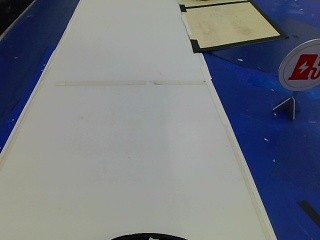battery: (278, 38, 317, 93)
